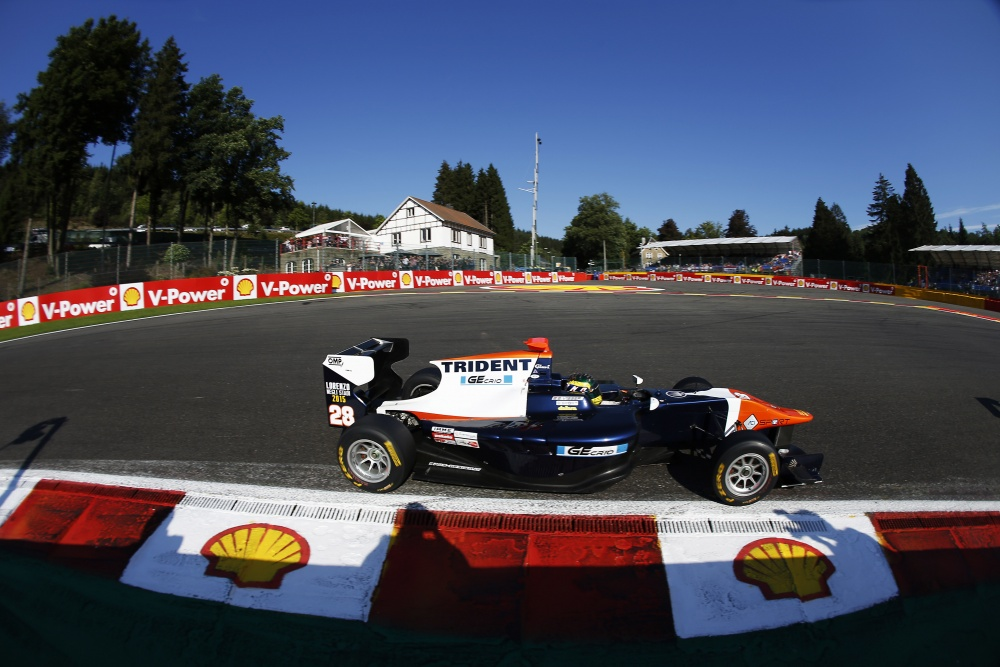race car: (313, 332, 825, 519)
